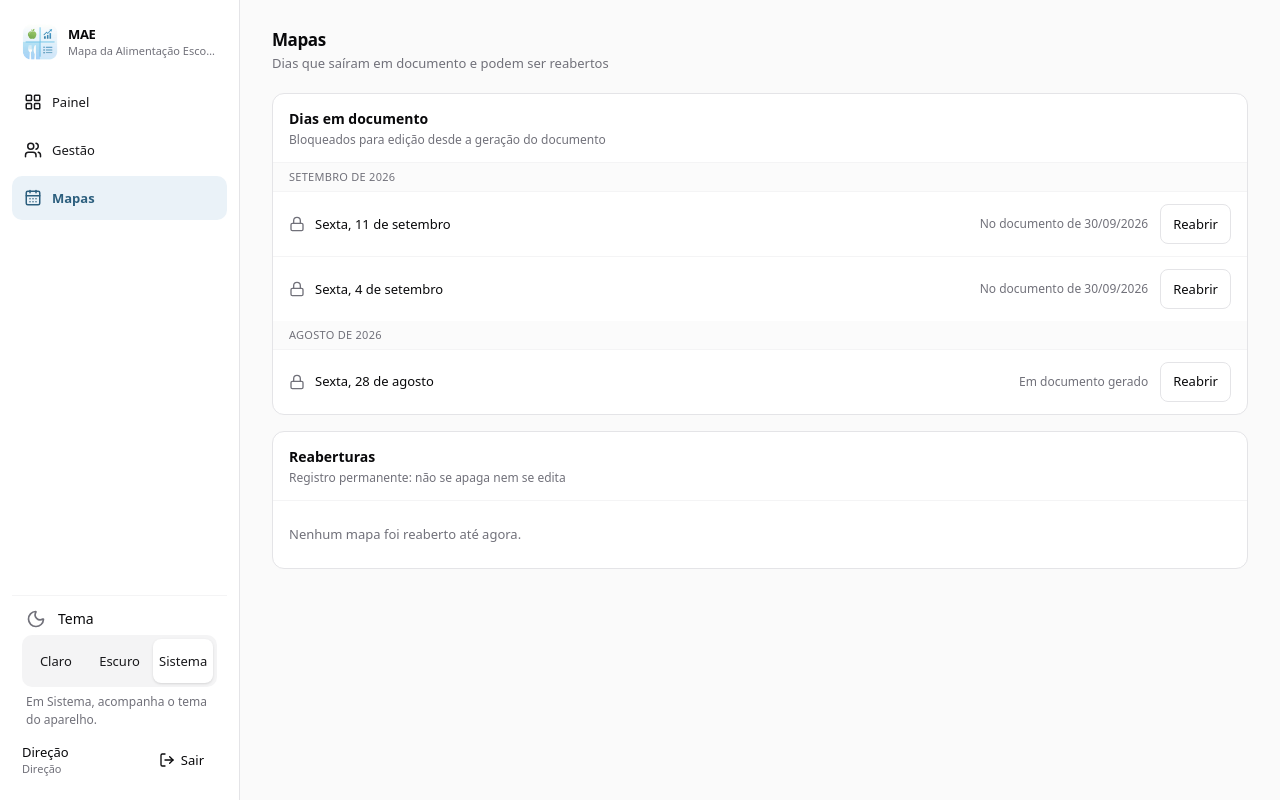
Test: a reabertura › reabre o mapa e registra a justificativa
The image size is (1280, 800).
Step 1. Click the button with aria-label "Reabrir o mapa de Sexta, 4 de setembro" → (1196, 289), box 1160,269 -> 1231,309
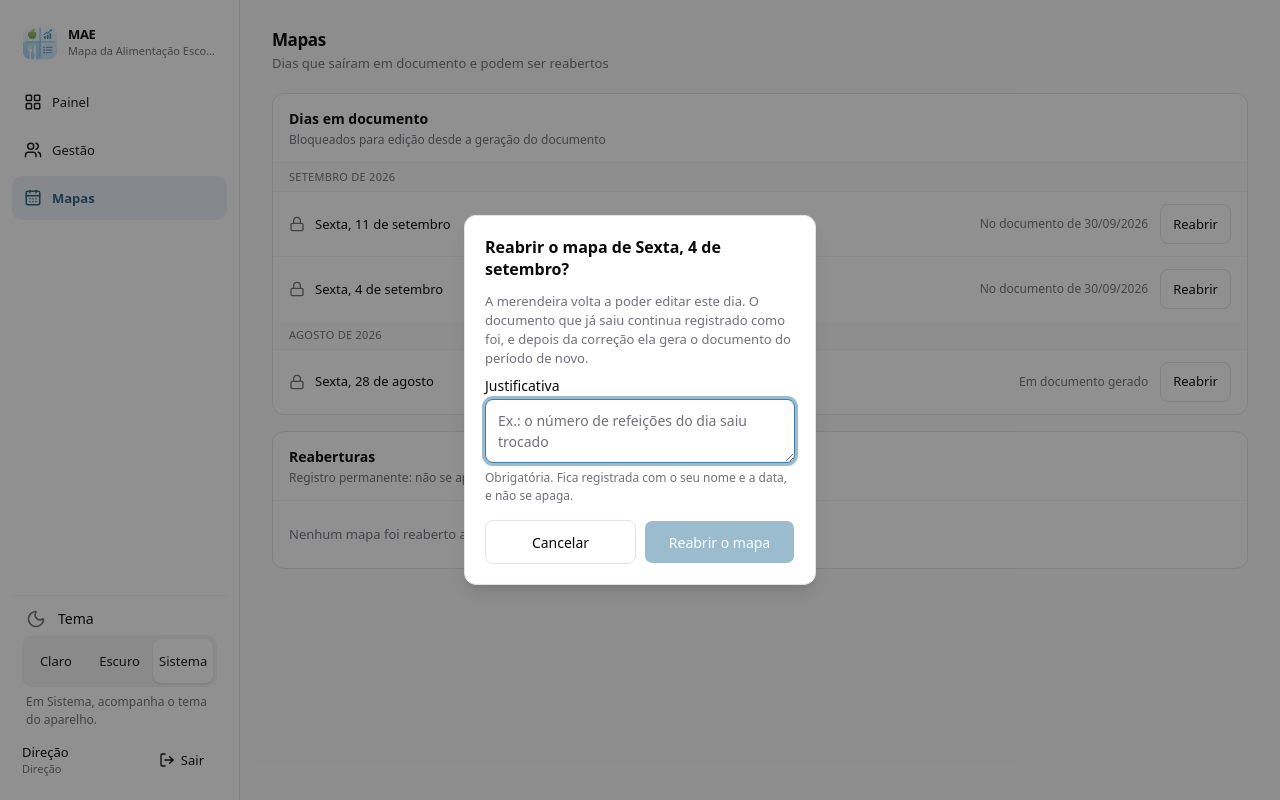
Step 2. Type "O número de refeições saiu trocado." into the text box labelled "Justificativa" → (640, 431), box 485,399 -> 795,463
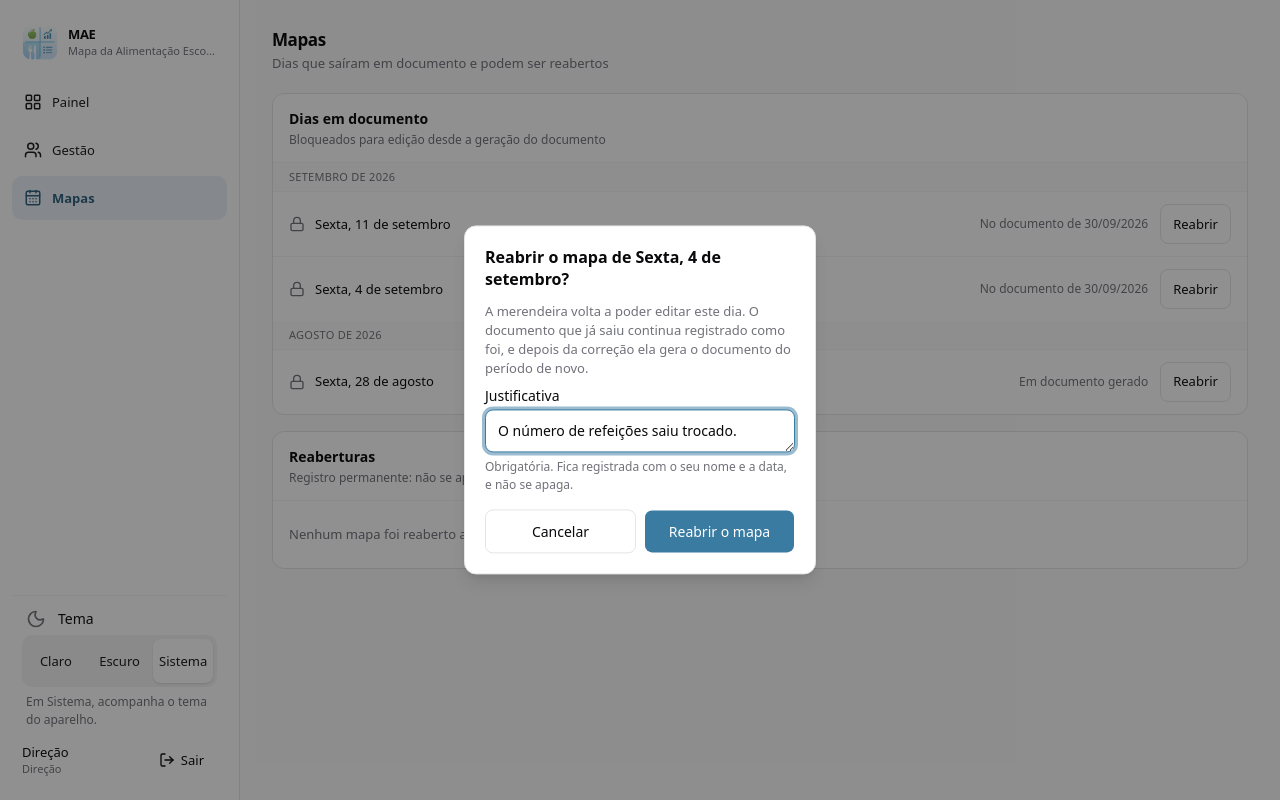
Step 3. Click the button "Reabrir o mapa" → (720, 532), box 644,510 -> 795,554
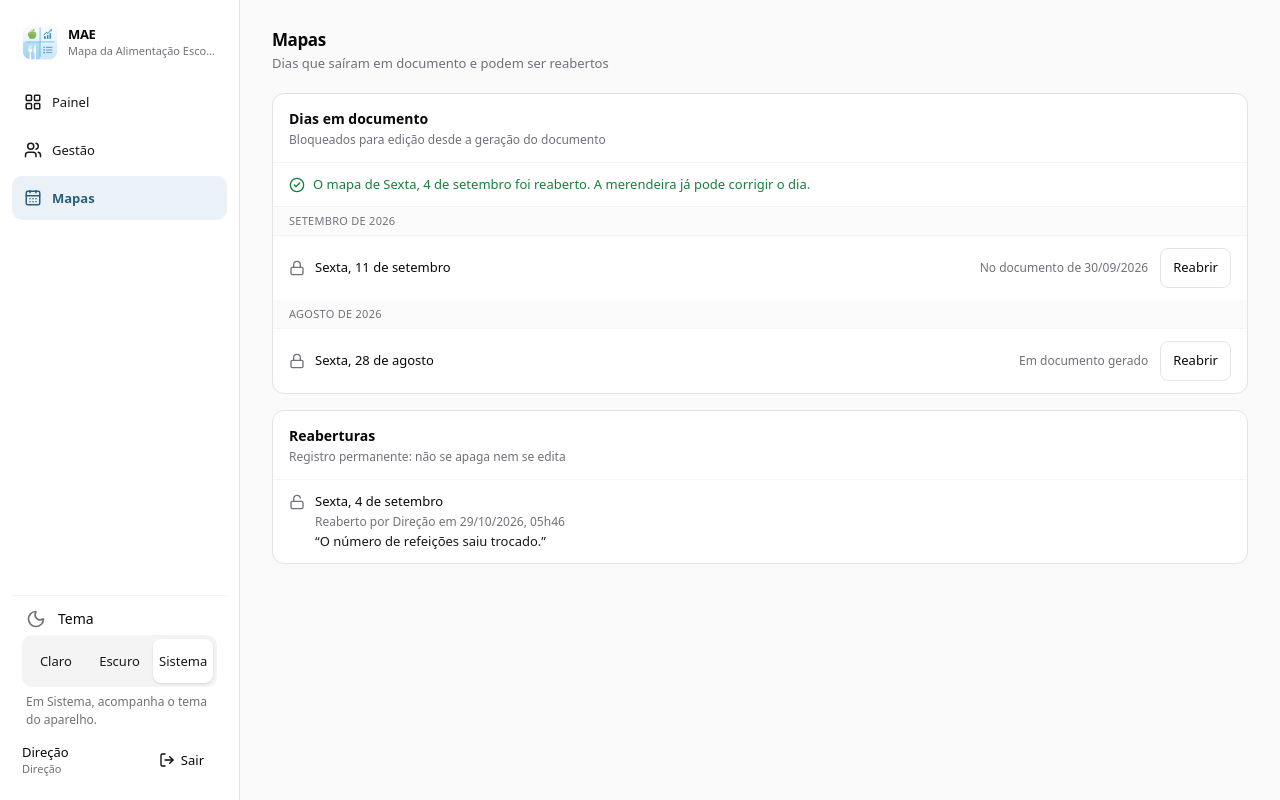
Check: the text "O mapa de Sexta, 4 de setembro foi reaberto" is shown, box 313,175 -> 810,193
